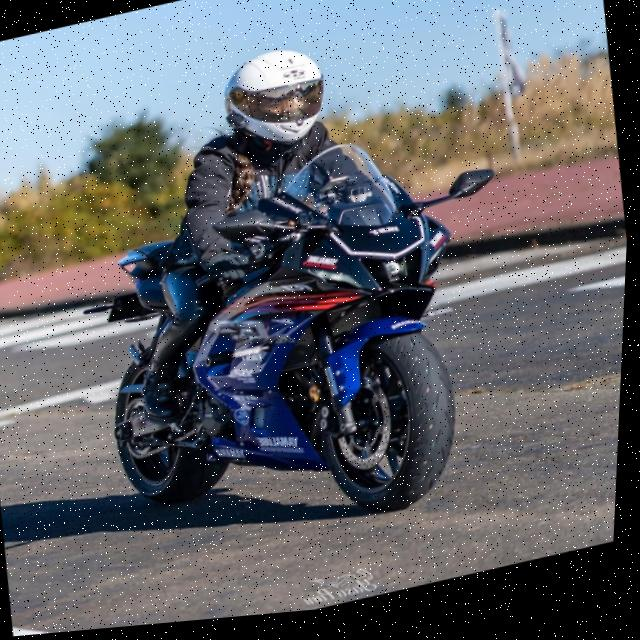helmet: (212, 41, 340, 172)
